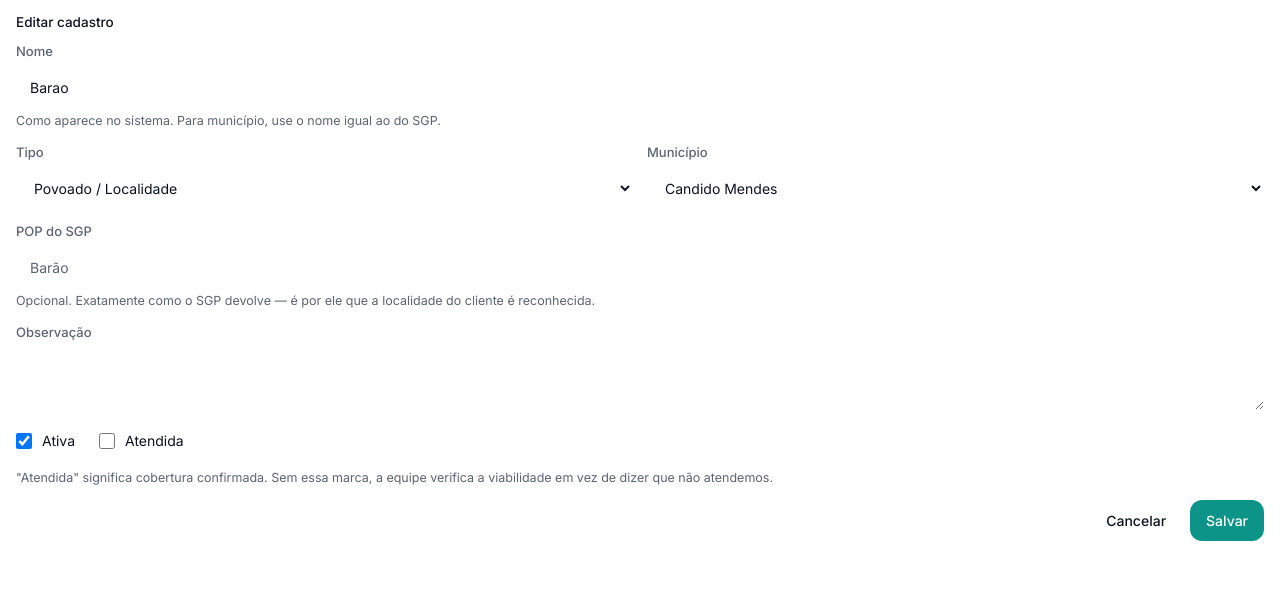
Test: CityForm › o 409 de mudanca estrutural vira mensagem que nomeia o que impede
Select "Carutapera" in the dropdown labelled "Município". click: {"x": 956, "y": 188}
box: 647,168 -> 1264,208
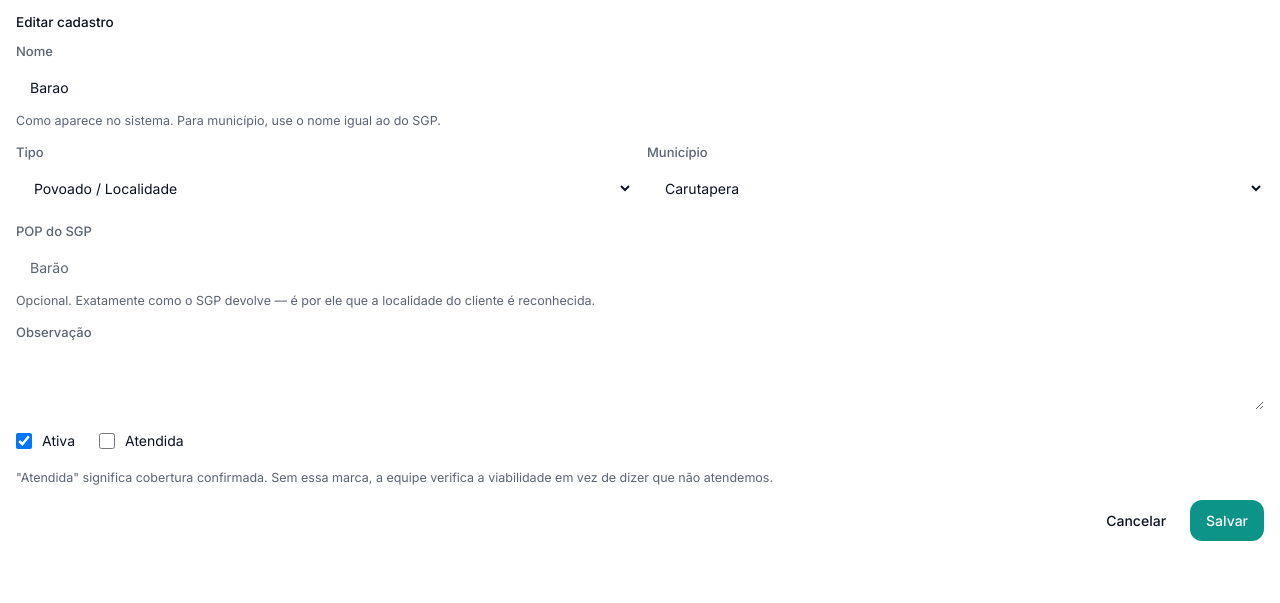
Click the button "Salvar". click: {"x": 1227, "y": 521}
box: 1190,500 -> 1264,541
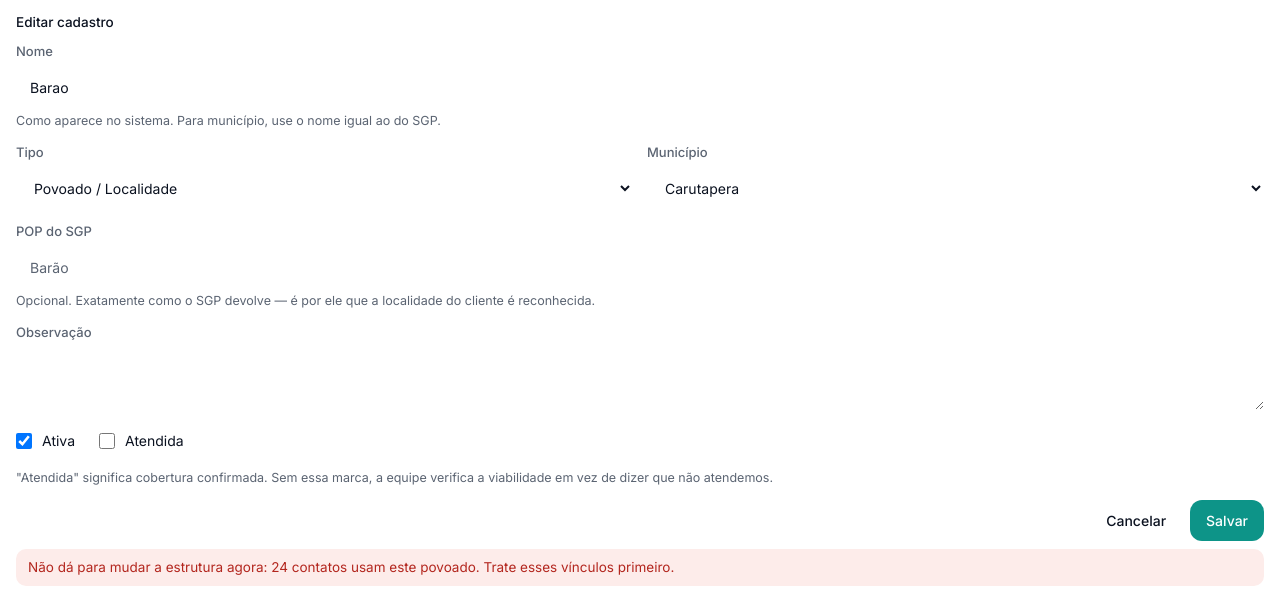
Result: the message shows "24 contatos" at 28,559 -> 674,575
